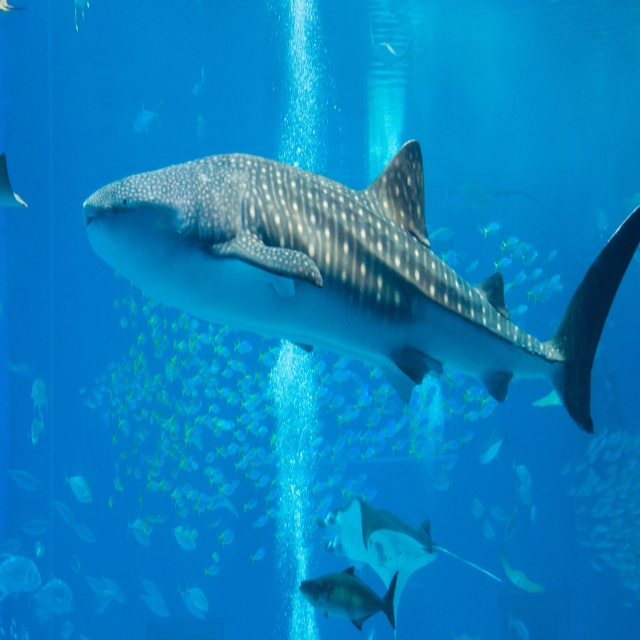Shark: (83, 140, 639, 434)
